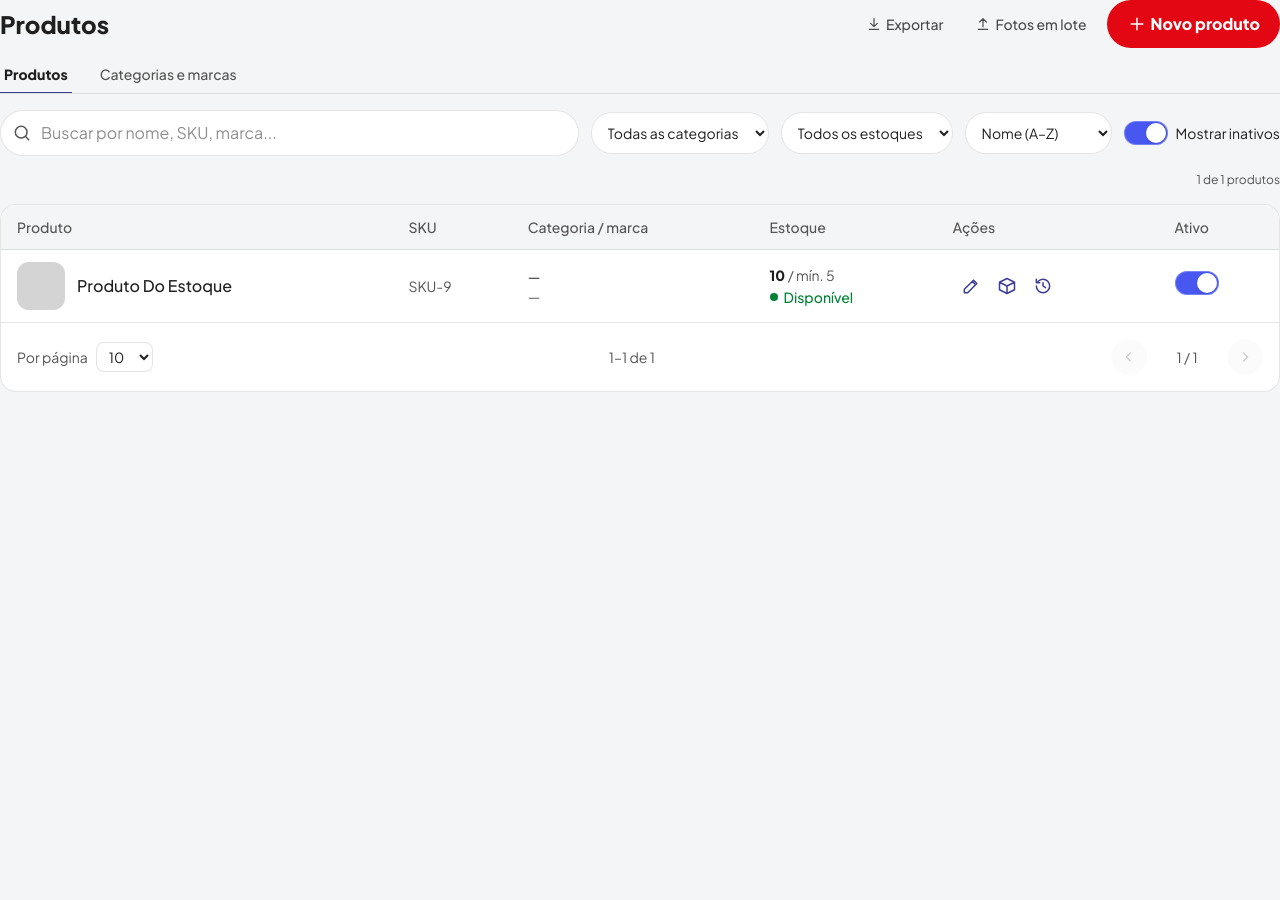
Scenario: Tabela: ações de estoque por ícone › o histórico só tem o ícone do relógio (sem o link de texto) e abre a janela com o histórico primeiro
The width and height of the screenshot is (1280, 900).
Click the button named "Ver histórico de estoque de Produto Do Estoque": (1043,286) [1025,268,1061,304]
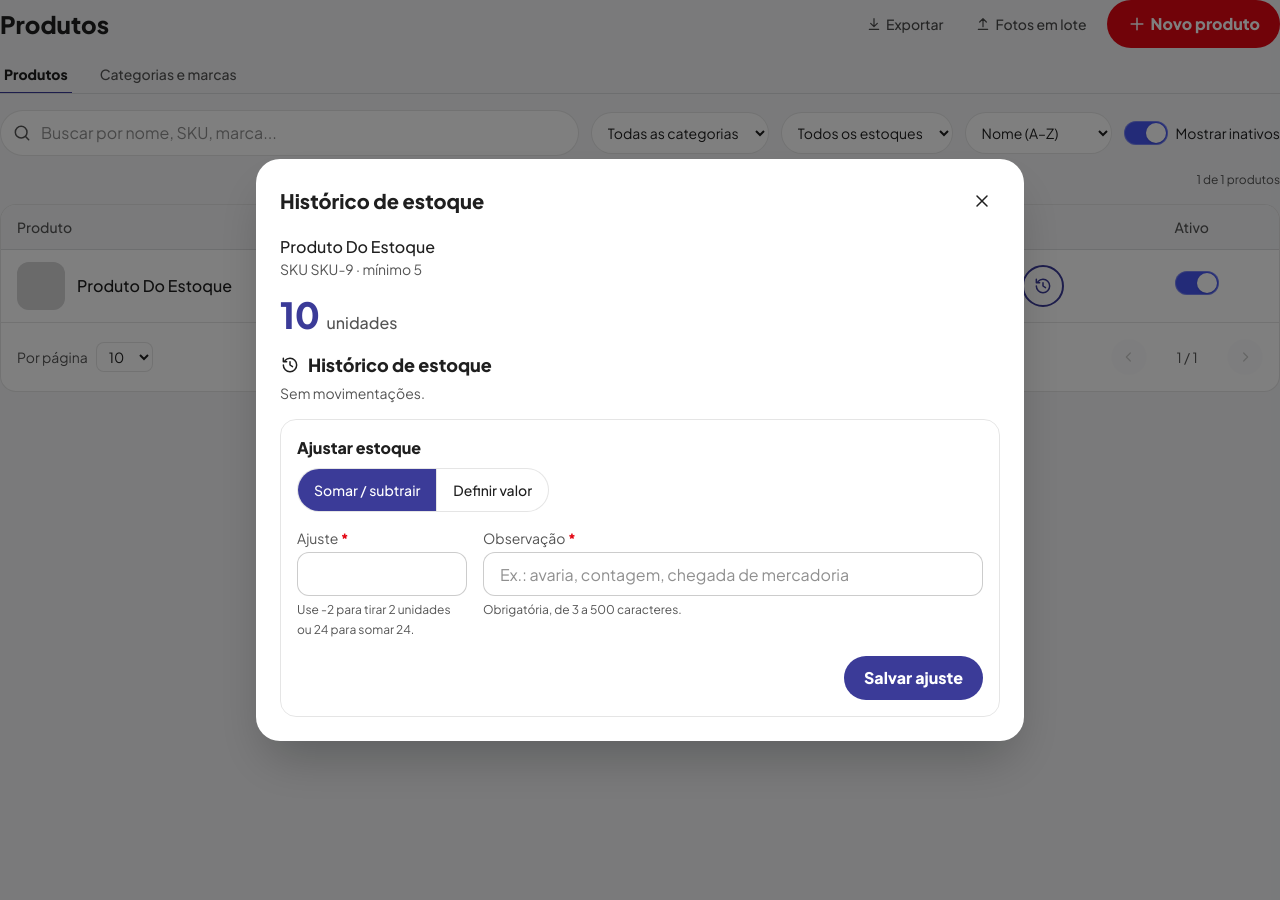
Expected: the element "Histórico de estoque" is shown, [280,353,492,402]
Expected: the button "Salvar ajuste" is shown, [844,656,983,700]
